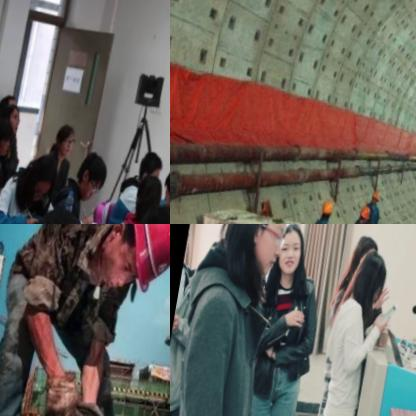head: (223, 224, 294, 291), (348, 247, 391, 317), (341, 230, 382, 294), (70, 146, 109, 207), (19, 147, 59, 205), (268, 224, 308, 282), (131, 176, 166, 221), (134, 145, 164, 189), (49, 121, 79, 163), (38, 200, 84, 224), (0, 103, 21, 140), (157, 159, 170, 215), (0, 91, 18, 128), (0, 117, 14, 157)
helmet: (93, 224, 170, 302), (318, 197, 336, 224), (369, 188, 384, 209), (356, 205, 372, 224)
